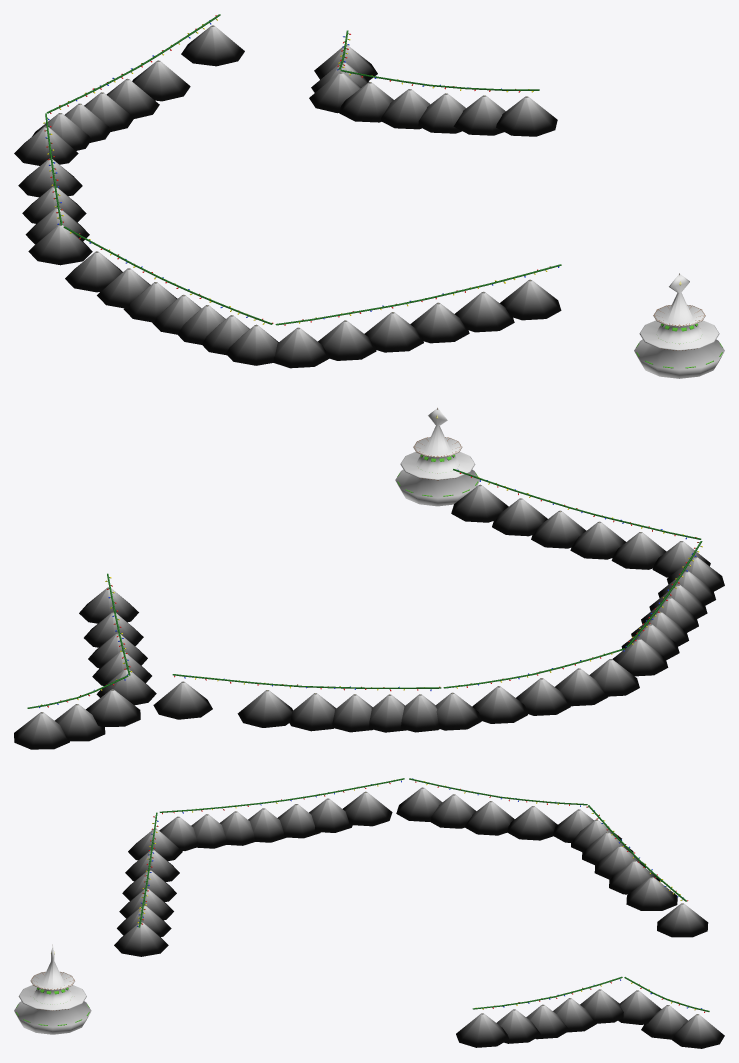
File: hideoutxmas.fbx
The picture shows the model from 3 angles, top to bottom: view 1: azimuth 30°, elevation 25°; view 2: azimuth 150°, elevation 25°; view 3: azimuth 270°, elevation 25°; orthographic projection. The views are drawn at different scales.
Parts seen in each view (by area): view 1: treecoll, lamp.031, lamp.023, lamp, lamp.013, lamp.005, lamp.001, lamp.003, lamp.004, lamp.002, lamp.017, lamp.006 (+22 smaller); view 2: treecoll, lamp.023, lamp.024, lamp.022, lamp, lamp.016, lamp.026, lamp.001, lamp.003, lamp.015, lamp.002, lamp.004 (+24 smaller); view 3: treecoll, lamp.023, lamp.022, lamp.031, lamp, lamp.024, lamp.016, lamp.012, lamp.015, lamp.014, lamp.013, lamp.011 (+23 smaller).
Part boxes in pixels (box(x1,y1,x2,y2)): treecoll: box(634, 274, 724, 378); lamp.031: box(496, 96, 557, 136); lamp.023: box(181, 25, 244, 66); lamp: box(500, 279, 561, 320); lamp.013: box(28, 224, 92, 265); lamp.005: box(273, 327, 329, 368); lamp.001: box(455, 291, 514, 332); lamp.003: box(364, 312, 423, 352); lamp.004: box(318, 320, 376, 360); lamp.002: box(410, 302, 469, 343); lamp.017: box(14, 126, 78, 165); lamp.006: box(226, 324, 278, 365); treecoll: box(395, 408, 479, 506); lamp.023: box(153, 681, 212, 719); lamp.024: box(14, 712, 69, 749); lamp.022: box(237, 690, 292, 727); lamp: box(451, 484, 508, 522); lamp.016: box(472, 686, 527, 723); lamp.026: box(86, 689, 140, 726); lamp.001: box(492, 498, 547, 536); lamp.003: box(570, 521, 625, 559); lamp.015: box(516, 678, 570, 715); lamp.002: box(531, 510, 586, 548); lamp.004: box(611, 532, 666, 569); treecoll: box(14, 945, 91, 1034); lamp.023: box(657, 903, 708, 937); lamp.022: box(626, 877, 677, 910); lamp.031: box(456, 1013, 508, 1047); lamp: box(114, 922, 168, 956); lamp.024: box(672, 1014, 724, 1048); lamp.016: box(507, 806, 557, 840); lamp.012: box(343, 791, 392, 826); lamp.015: box(464, 801, 514, 835); lamp.014: box(430, 794, 476, 828); lamp.013: box(396, 787, 442, 821); lamp.011: box(309, 798, 352, 832).
Size of the model in its own units: 65.64 by 85.31 by 11.01.
